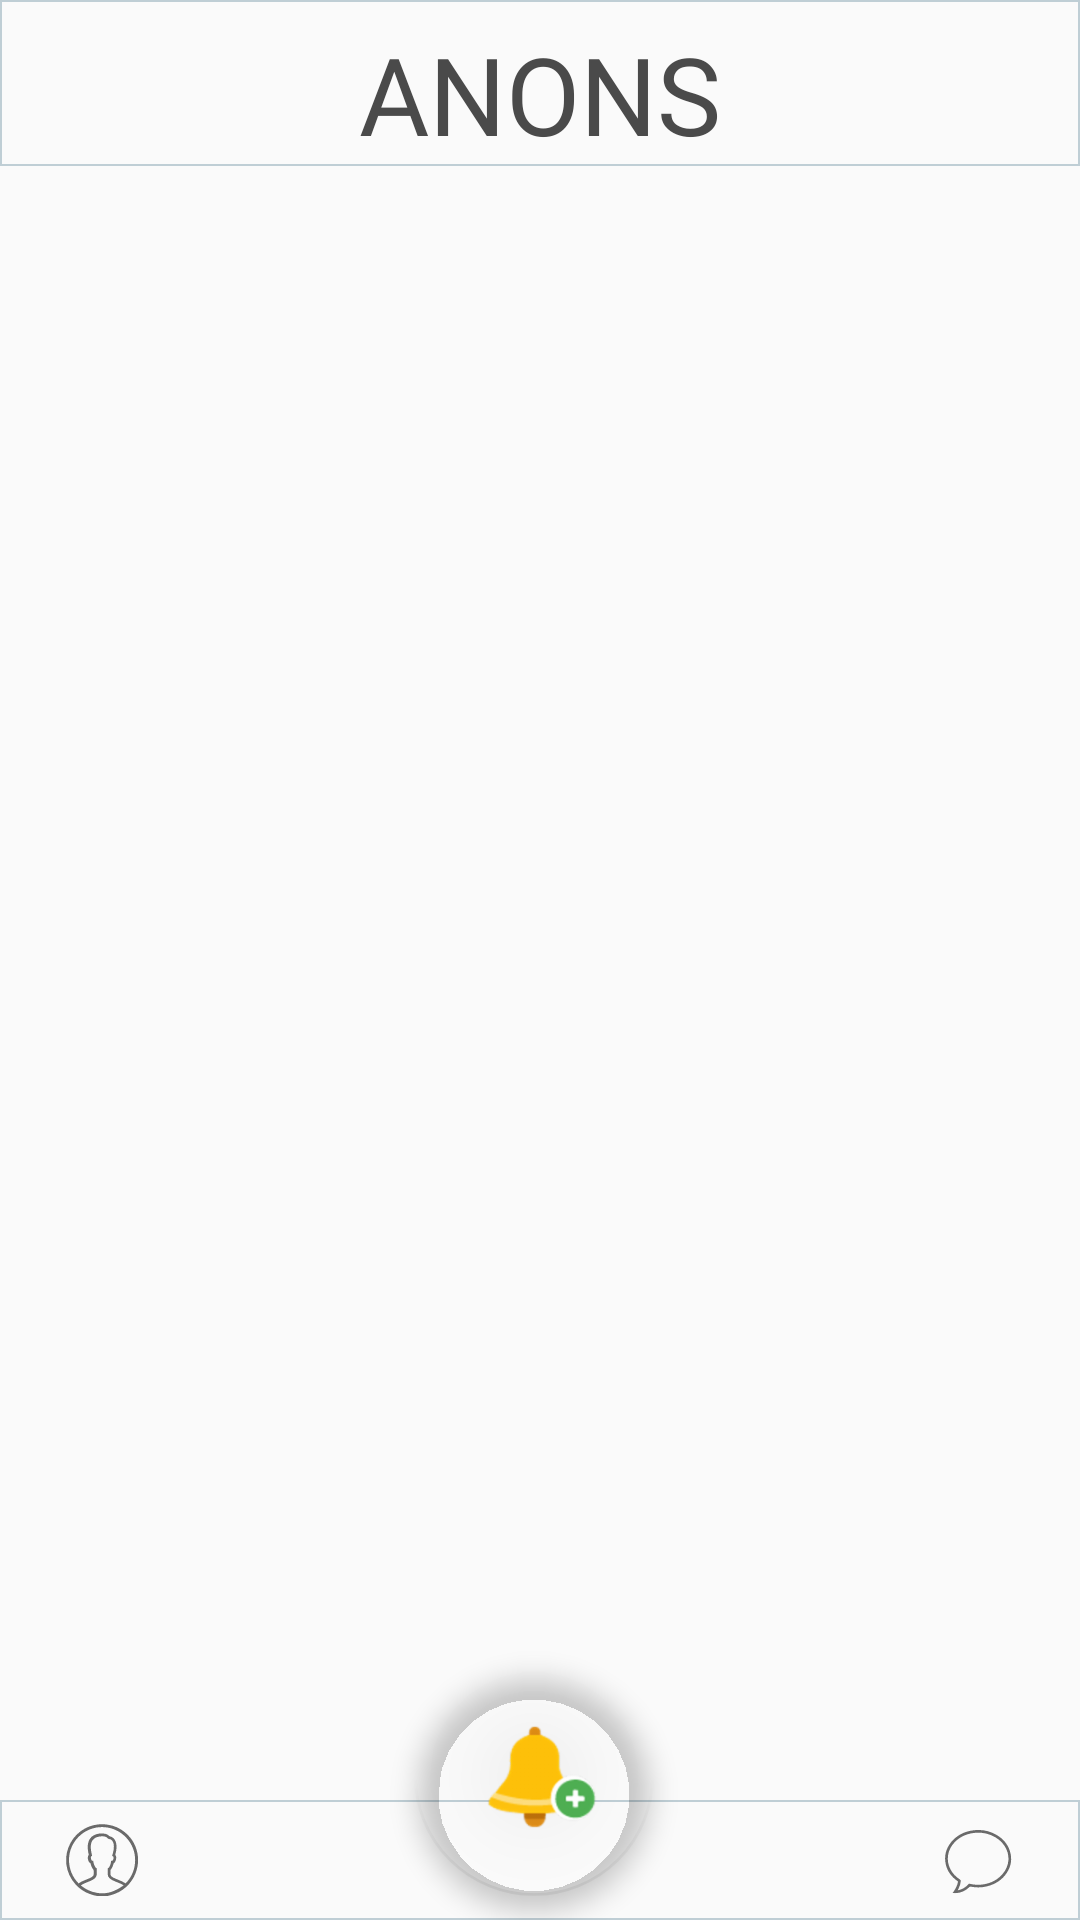

Where to tap for icons on this 1080 × 1920 app screen, as [x,y]:
bildirieklepng: [534,1787]
chattiklanmamis: [978,1861]
profiltiklanmamis: [102,1860]
